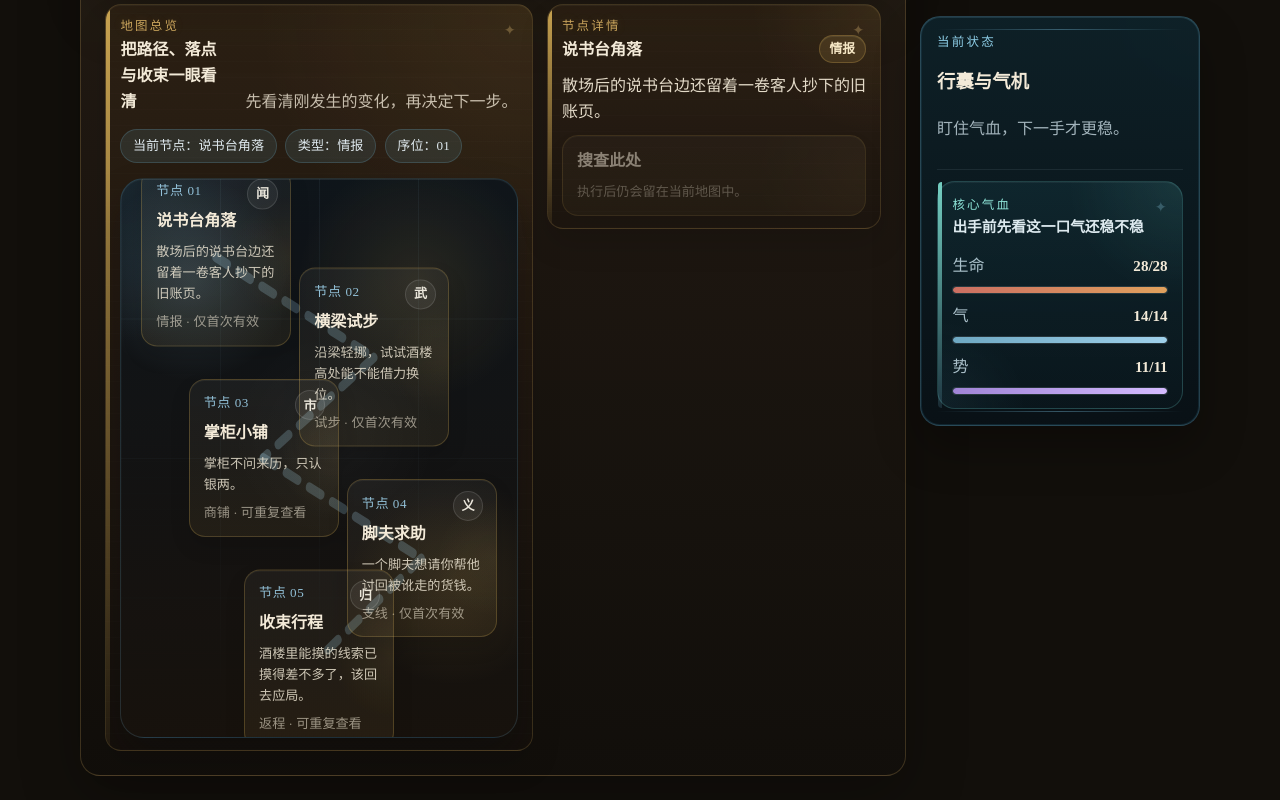
Test: ExplorationScreen › disables detail actions while exploration narration is streaming
(page scrolled)
Click the button "市 节点 03 掌柜小铺 掌柜不问来历，只认银两。 商铺 · 可重复查看" at (264, 458), box [189,379,339,537]
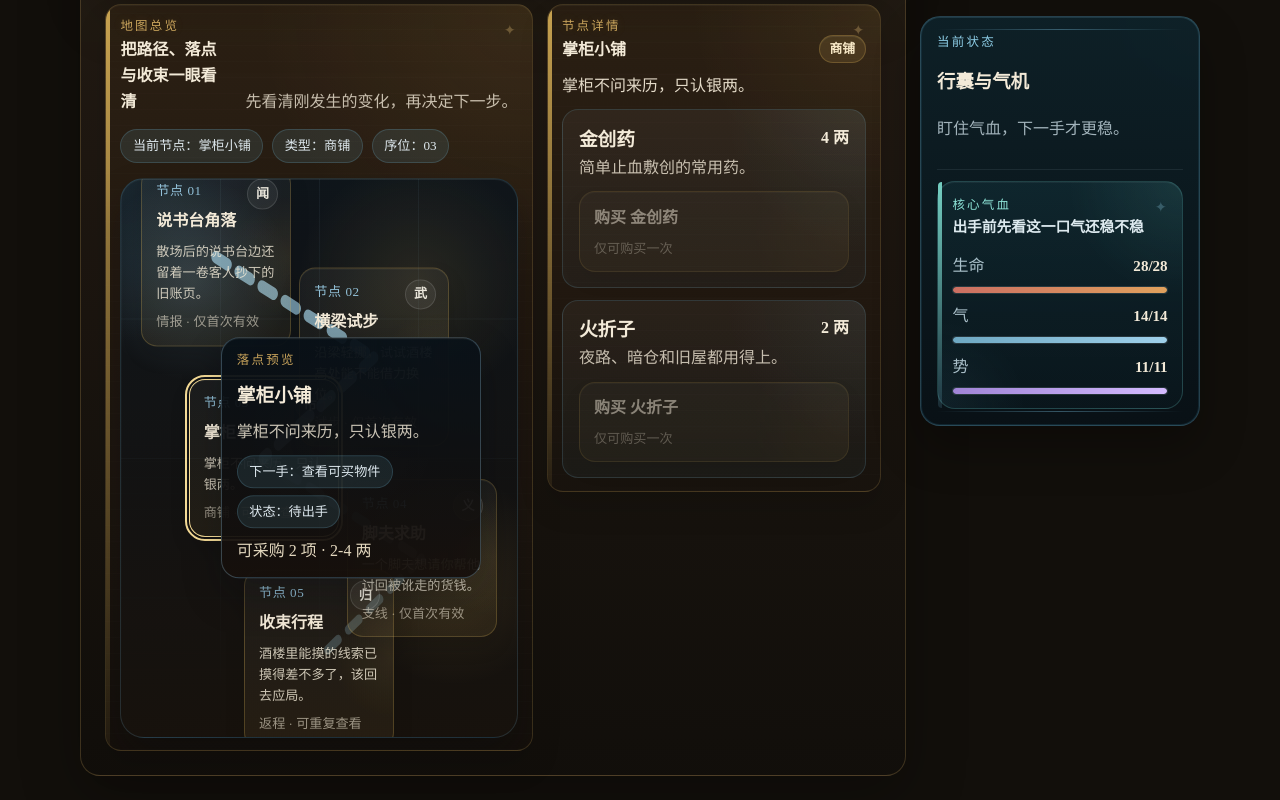
Now the button "购买 金创药 仅可购买一次" is disabled, box [579,191,849,272]
Click the button "横梁试步" at (374, 357), box [299,268,449,447]
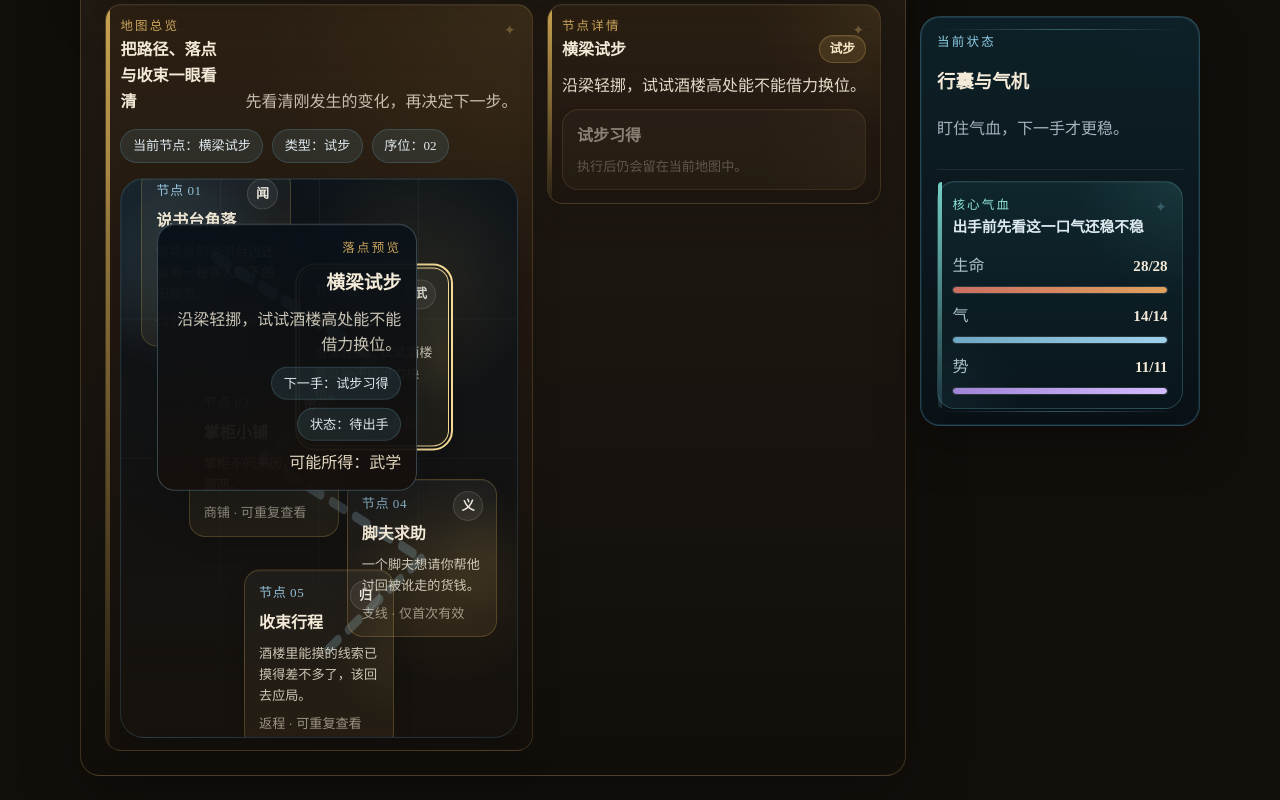
Now the button "试步习得 执行后仍会留在当前地图中。" is disabled, box [562,109,866,190]
